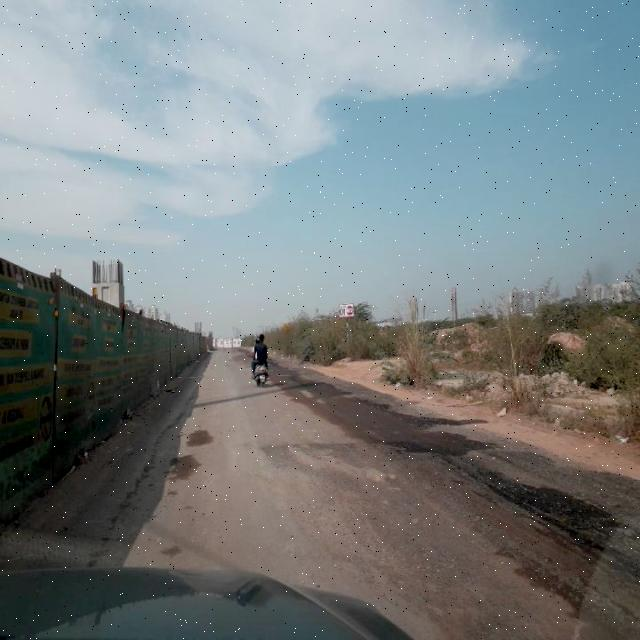D40: (276, 404, 628, 636)
